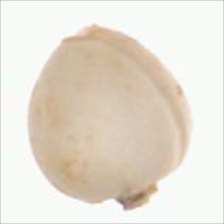L3: (57, 23, 114, 44)
L4: (27, 26, 193, 209)
